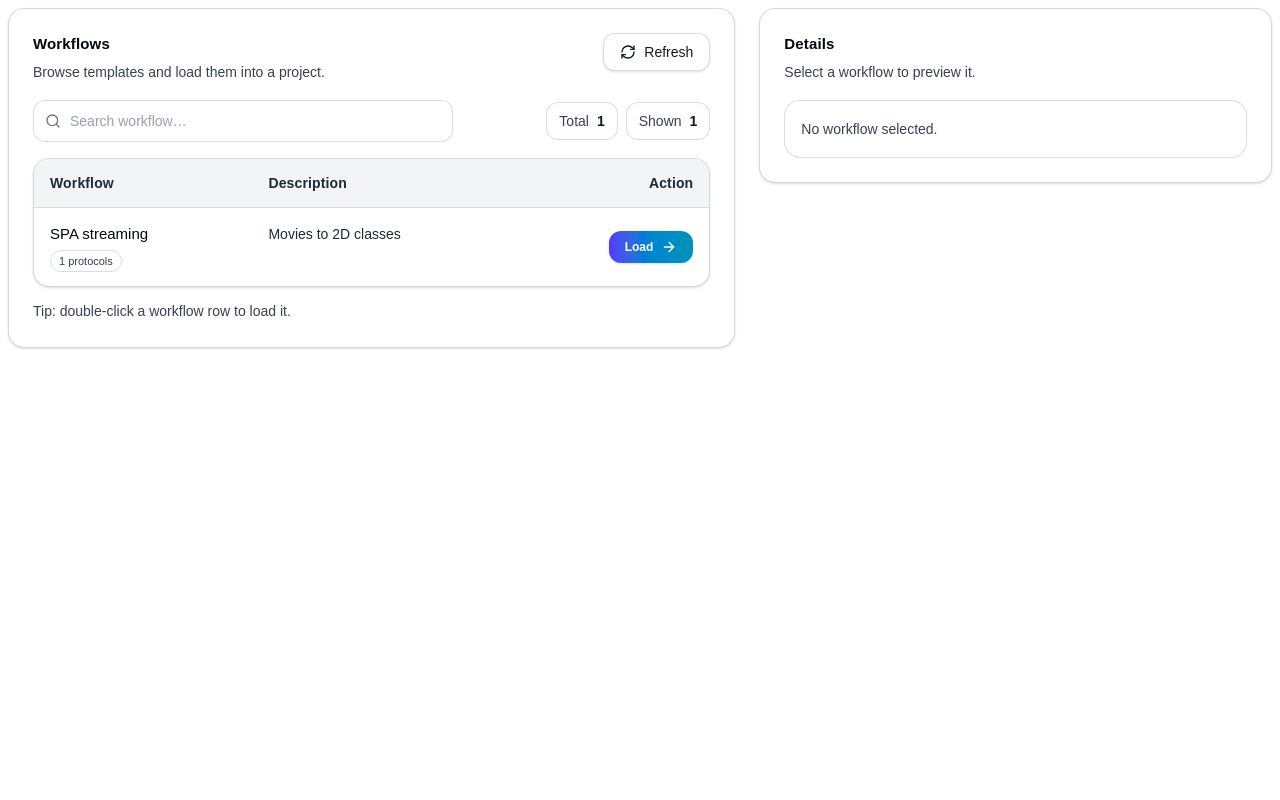
Scenario: WorkflowsPage › shows the name of the selected workflow in its details
The width and height of the screenshot is (1280, 800).
Click the element titled "Click to select, double-click to load" at {"x": 335, "y": 234}, box [34,208,709,286]
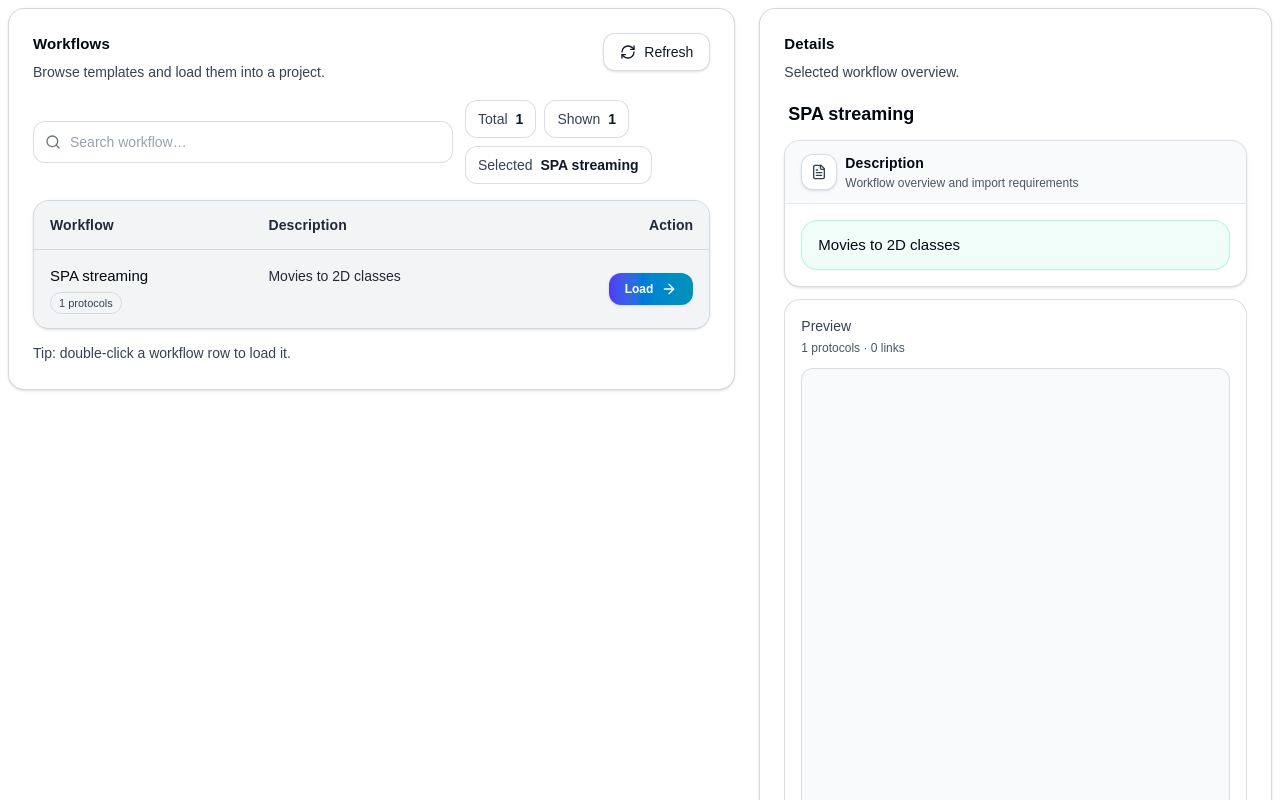
expect the heading with test id "workflow-details-name" reads "SPA streaming": met, box [788,104,914,124]
